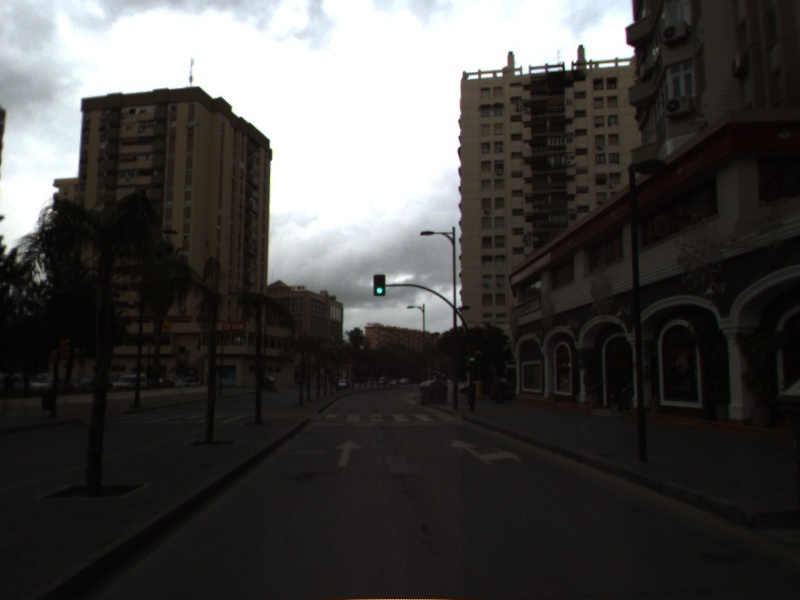STRAIGHT: (332, 437, 365, 469)
STRAIGHT_RIGHT: (448, 436, 523, 466)
